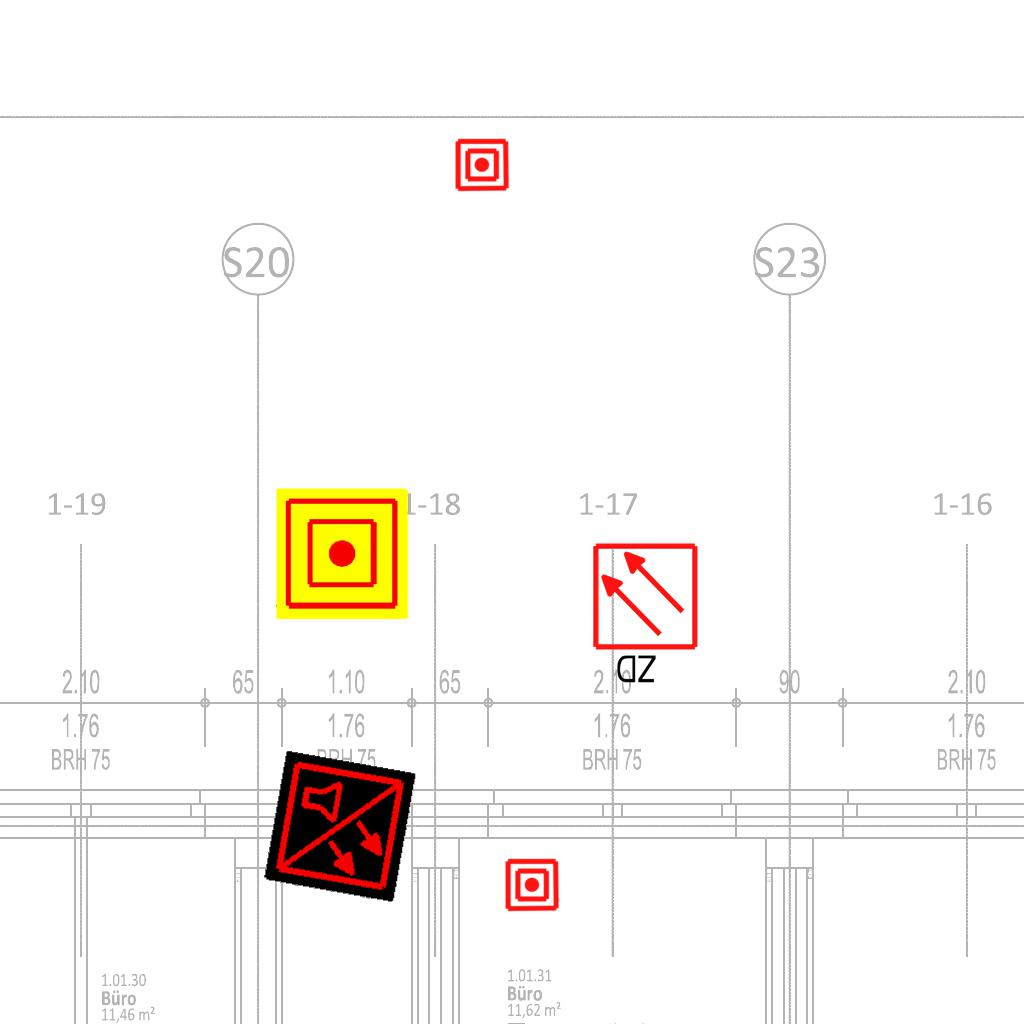NAM-Nichtautomatischer_Melder: (276, 488, 408, 620), (454, 137, 510, 193), (504, 857, 560, 913)
OKW_Multisensormelder_(Kombination_optischer_Rauch-Kahlenmonoxid_Waerme-Melder): (263, 750, 417, 904)
ZD_Melder_in_Zwischendecke_mit_Revisionsoeffnung_mind_40_x_40_cm: (590, 541, 704, 690)
